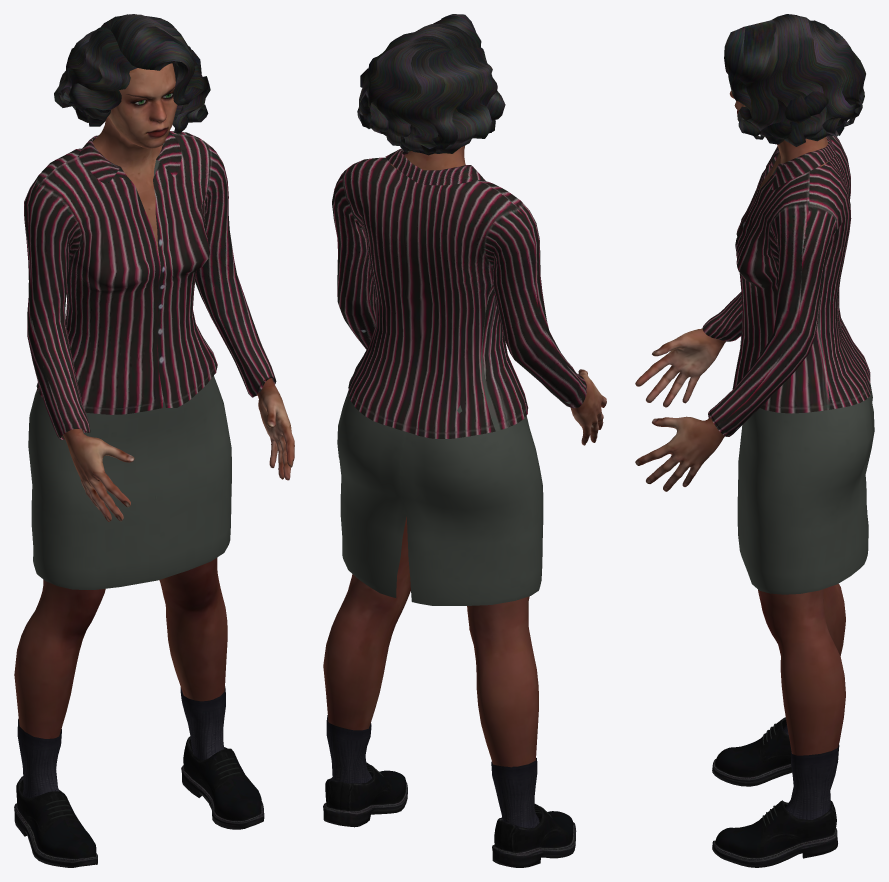
Rendered from donna-03.glb.
The picture shows the model from 3 angles, left to right: view 1: azimuth 30°, elevation 25°; view 2: azimuth 150°, elevation 25°; view 3: azimuth 270°, elevation 25°; orthographic projection.
Parts seen in each view (by area): view 1: Human.female_elegantsuit01, Human, Human.shoes03, Human.elvs_wavy_bob; view 2: Human.female_elegantsuit01, Human, Human.elvs_wavy_bob, Human.shoes03; view 3: Human.female_elegantsuit01, Human, Human.elvs_wavy_bob, Human.shoes03.
Part boxes in pixels (<box>): Human.female_elegantsuit01: <box>24,131,276,589</box>; Human: <box>14,63,294,738</box>; Human.shoes03: <box>14,686,264,867</box>; Human.elvs_wavy_bob: <box>54,14,210,133</box>; Human.female_elegantsuit01: <box>332,148,586,605</box>; Human: <box>323,145,606,767</box>; Human.elvs_wavy_bob: <box>357,14,505,155</box>; Human.shoes03: <box>323,715,576,867</box>; Human.female_elegantsuit01: <box>702,136,874,594</box>; Human: <box>635,91,845,755</box>; Human.elvs_wavy_bob: <box>724,14,865,146</box>; Human.shoes03: <box>712,717,839,867</box>.
Size of the model in its own units: 0.4712 by 1.63 by 0.4407.
12 materials, 12 textured.
